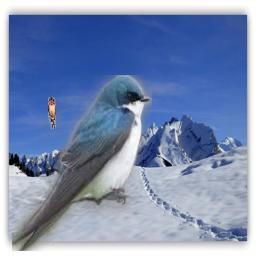Swallow: (12, 75, 152, 251), (48, 97, 56, 129)
